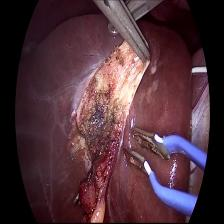Bipolar: (121, 123, 207, 214)
Grasper: (94, 0, 154, 70)
